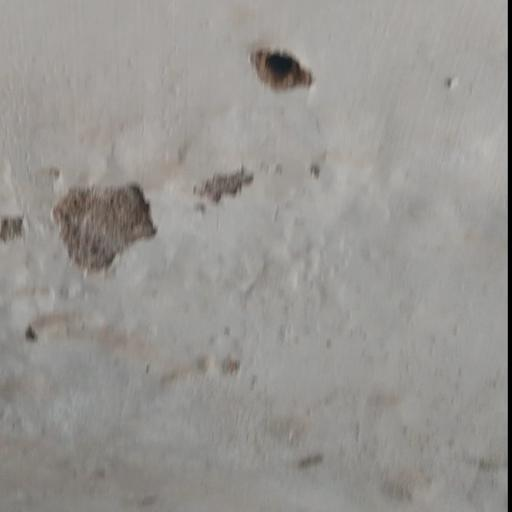peeling: (0, 156, 172, 298), (220, 38, 350, 135), (187, 152, 291, 225)
